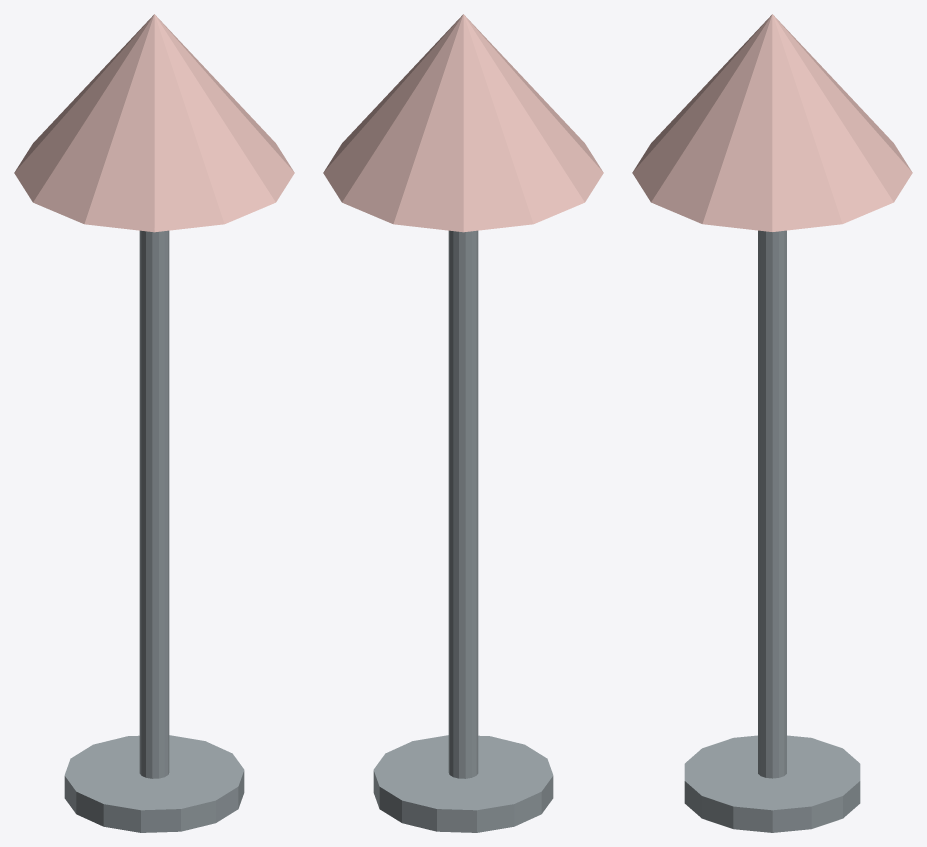
File: candy_floor_lamp.glb
The picture shows the model from 3 angles, left to right: view 1: azimuth 30°, elevation 25°; view 2: azimuth 150°, elevation 25°; view 3: azimuth 270°, elevation 25°; orthographic projection.
Parts seen in each view (by area): view 1: p002, p001, p000; view 2: p002, p001, p000; view 3: p002, p001, p000.
Part boxes in pixels (left/top/right/bottom): p002: left=14, top=14, right=294, bottom=232; p001: left=139, top=230, right=169, bottom=778; p000: left=64, top=735, right=244, bottom=832; p002: left=323, top=14, right=603, bottom=232; p001: left=448, top=230, right=478, bottom=778; p000: left=373, top=735, right=553, bottom=832; p002: left=632, top=14, right=912, bottom=231; p001: left=758, top=230, right=786, bottom=778; p000: left=684, top=735, right=860, bottom=832.
Size of the model in its own units: 0.56 by 1.72 by 0.56.
